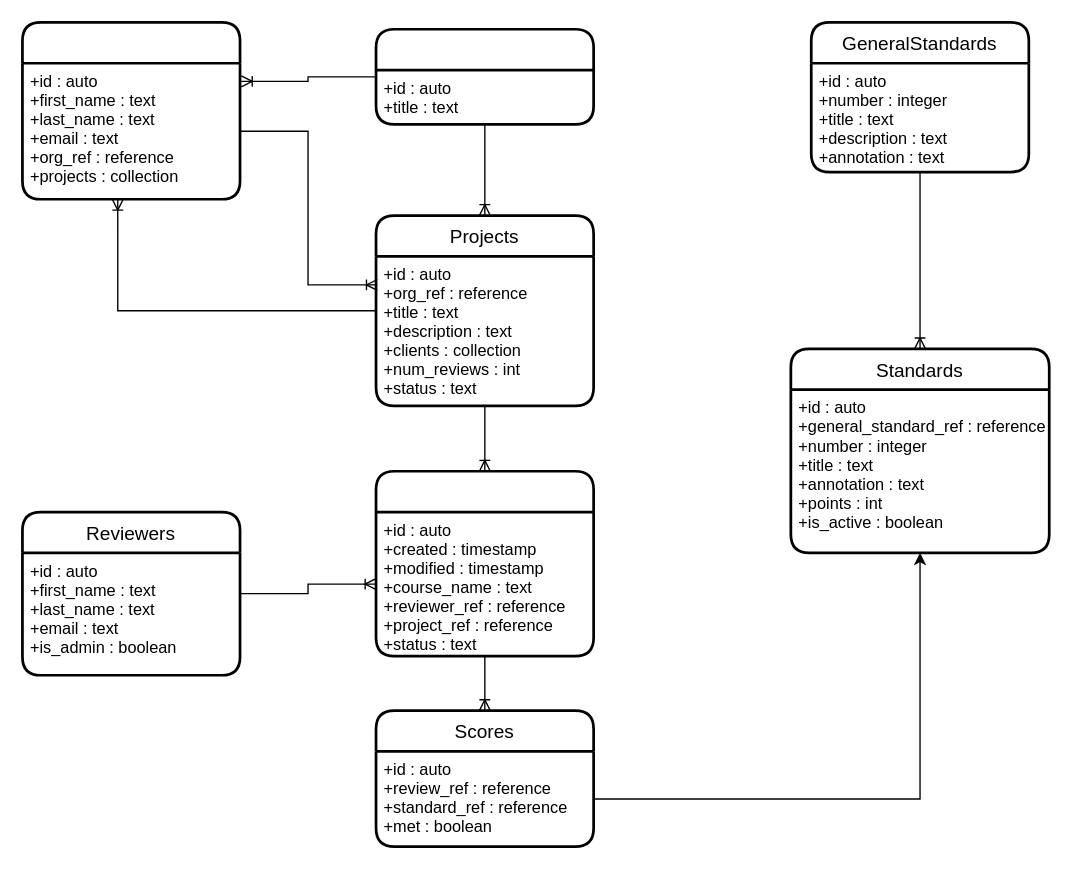
The diagram is 1072 pixels wide and 869 high, and some of its shapes have lost their labels. The shapes that lost their labels are listed below. From the top down, each one's box as (x1, y1, x2, y2) in pixels, then its label:
(374, 27, 594, 125): Organizations
(20, 20, 241, 200): Clients
(374, 469, 594, 657): Reviews
